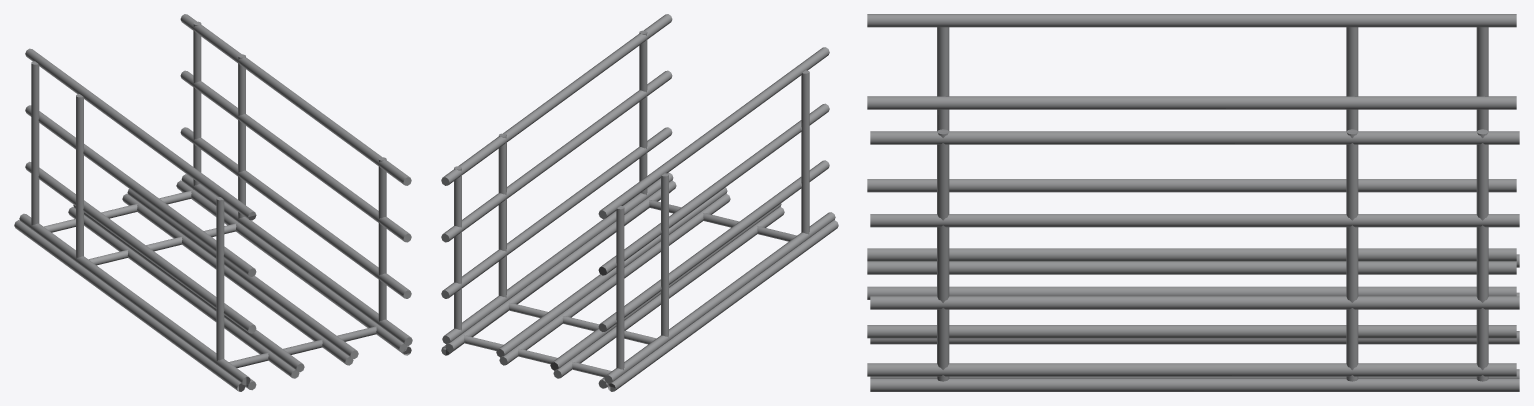
3 views of the same model, side by side, from view 1: azimuth 30°, elevation 25°; view 2: azimuth 150°, elevation 25°; view 3: azimuth 270°, elevation 25° (orthographic). The views are drawn at different scales.
Bounding box in the file's own units: 0.892 × 0.892 × 1.98.
